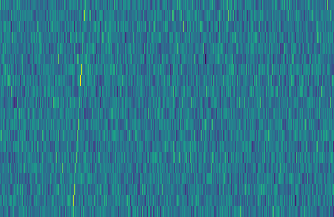signal: (66, 0, 88, 217)
